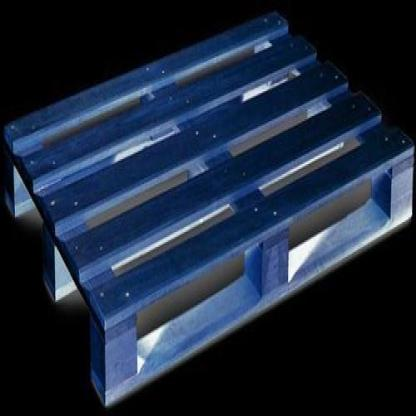BoxFace: (2, 11, 414, 412)
